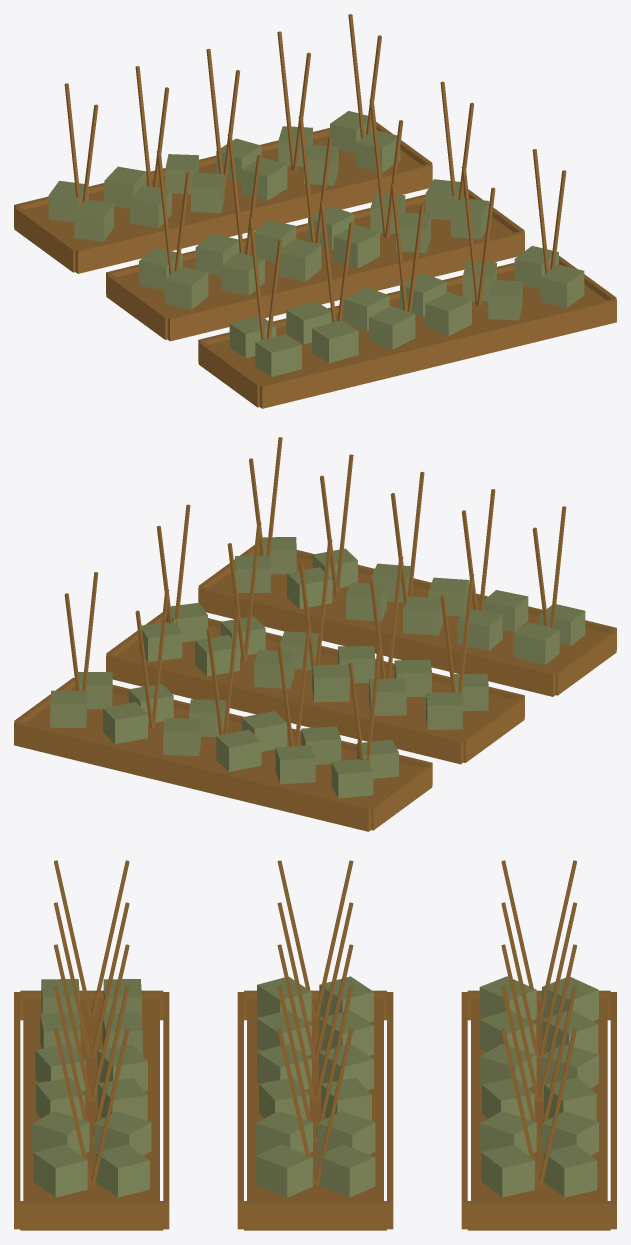
File: SM_Bancales_v3_Tomateras_LOD0.fbx
The picture shows the model from 3 angles, top to bottom: view 1: azimuth 30°, elevation 25°; view 2: azimuth 150°, elevation 25°; view 3: azimuth 270°, elevation 25°; orthographic projection. The views are drawn at different scales.
Visible parts, largest first — view 1: SM_vida_fuerte_v13_LOD0; view 2: SM_vida_fuerte_v13_LOD0; view 3: SM_vida_fuerte_v13_LOD0.
Part boxes in pixels (box(x1,y1,x2,y2)): SM_vida_fuerte_v13_LOD0: box(14, 14, 616, 408); SM_vida_fuerte_v13_LOD0: box(14, 437, 616, 831); SM_vida_fuerte_v13_LOD0: box(14, 860, 616, 1230).
Bounding box in the file's own units: 4.05 × 1.59 × 4.85.
